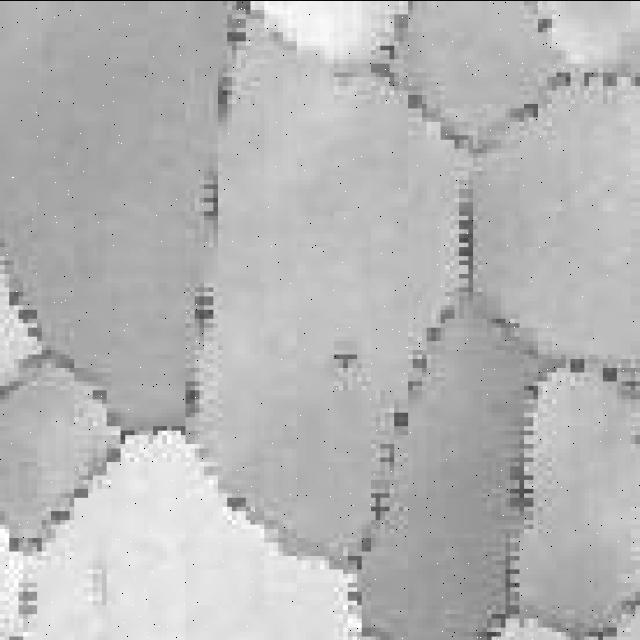good_void: (329, 350, 358, 372)
